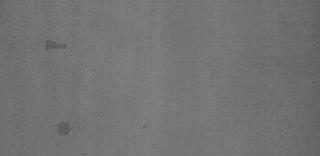oil spot: (56, 118, 74, 138), (45, 38, 71, 50), (140, 124, 148, 130)
